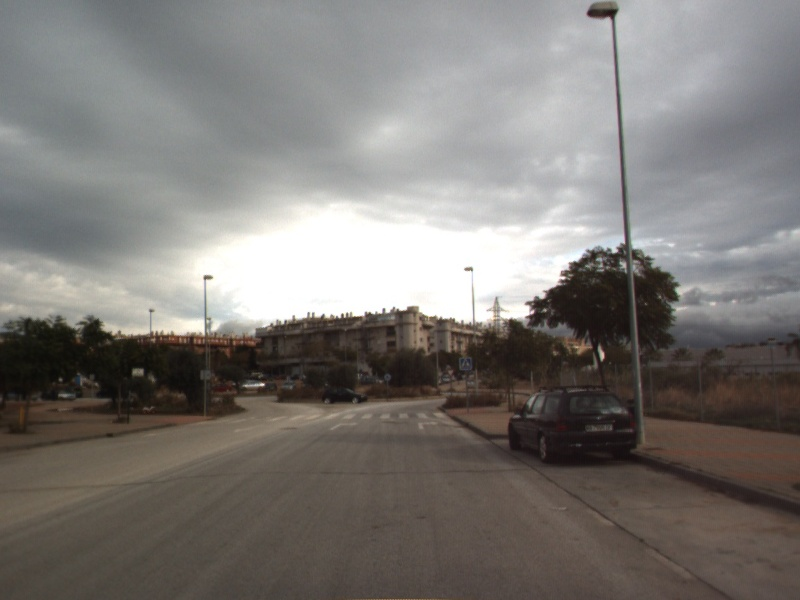RIGHT: (328, 419, 360, 432), (416, 419, 441, 431)
